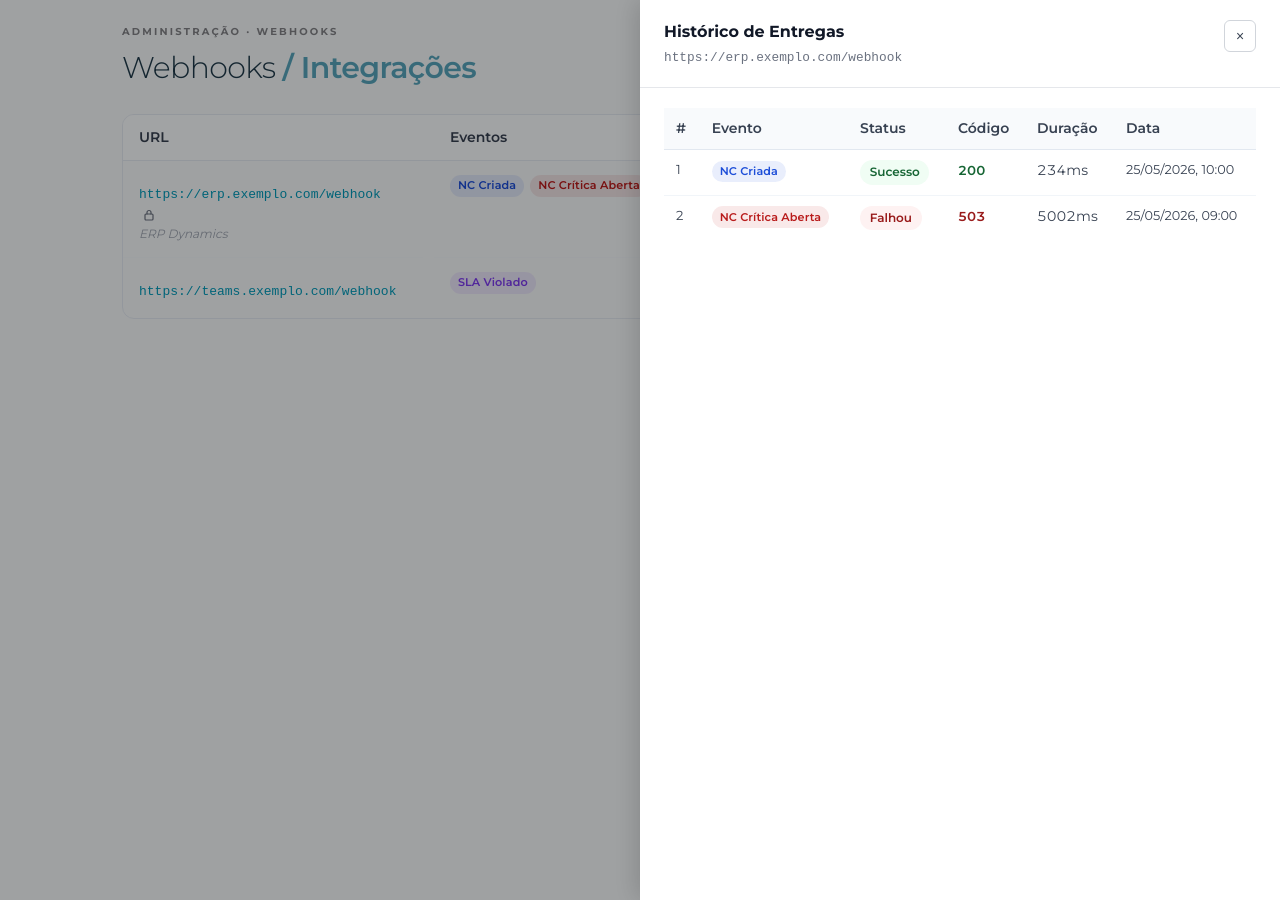
Test: WebhooksComponent › Painel de entregas › should close panel when close button is clicked
The image size is (1280, 900).
Click the button with test id "btn-close-deliveries" at (1240,36), box [1224, 20, 1256, 52]
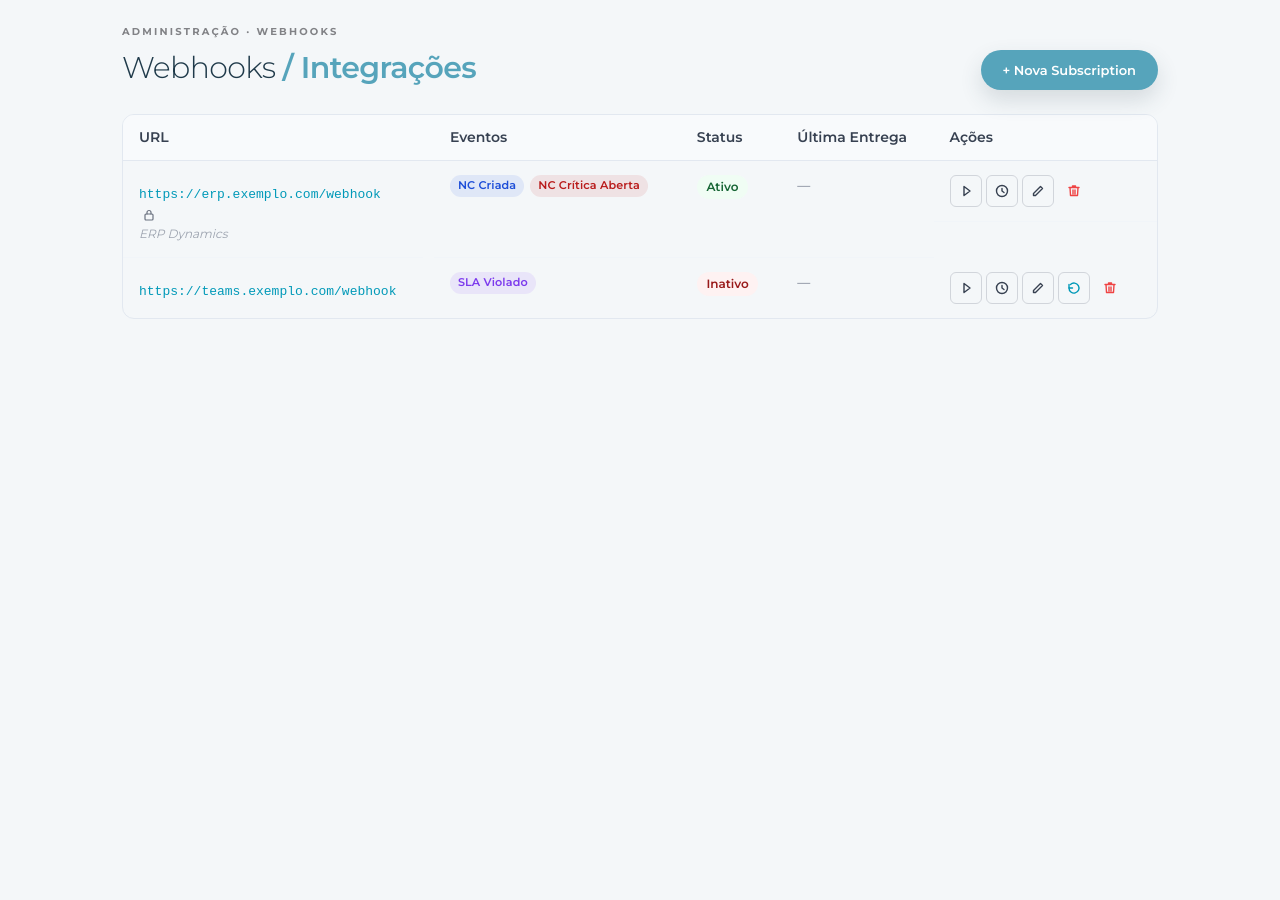
Check: the element with test id "deliveries-panel" is gone
